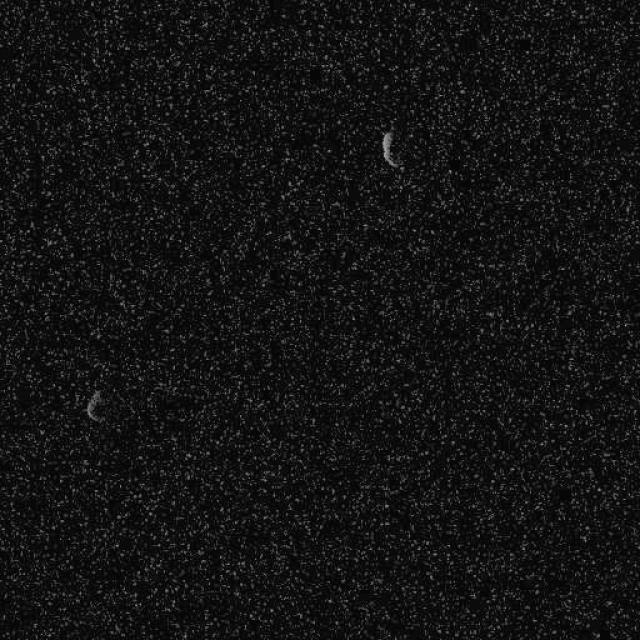D2: (380, 129, 401, 169), (85, 388, 105, 423)
